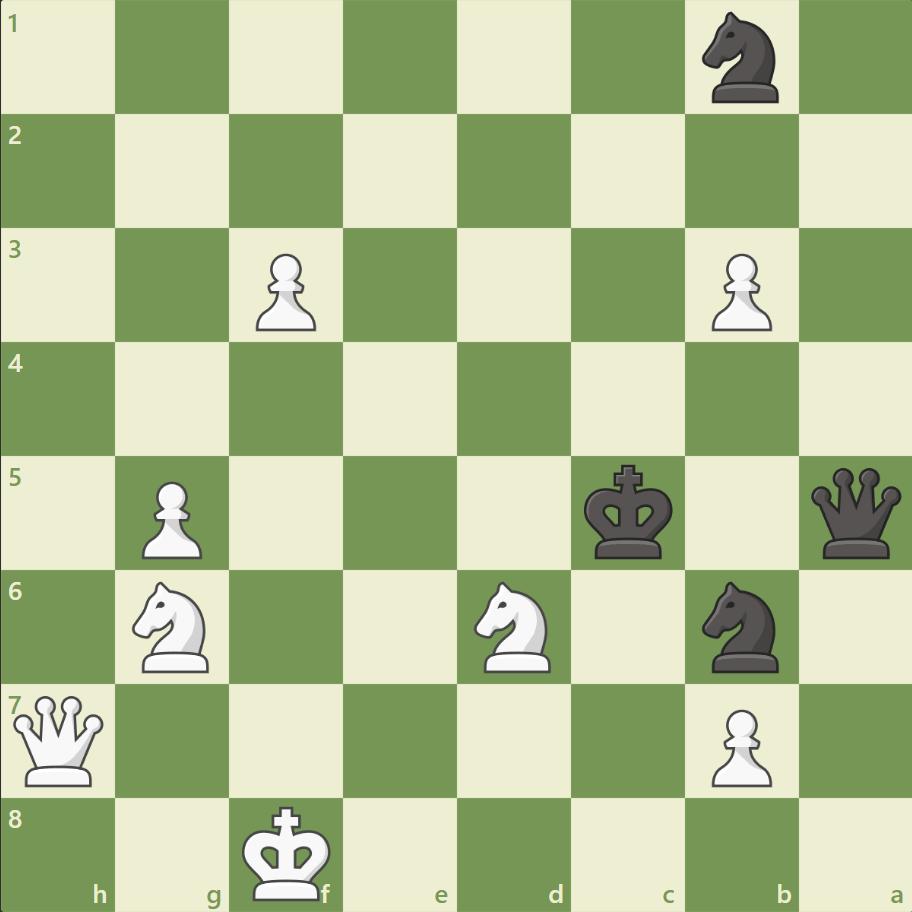K: (238, 798, 338, 906)
N: (124, 575, 222, 677), (465, 575, 562, 677)
P: (701, 700, 776, 791), (133, 473, 208, 564), (701, 246, 776, 337), (247, 246, 322, 337)
Q: (10, 690, 109, 789)
k: (579, 458, 679, 566)
n: (692, 7, 789, 110), (692, 575, 789, 677)
q: (805, 463, 904, 562)
